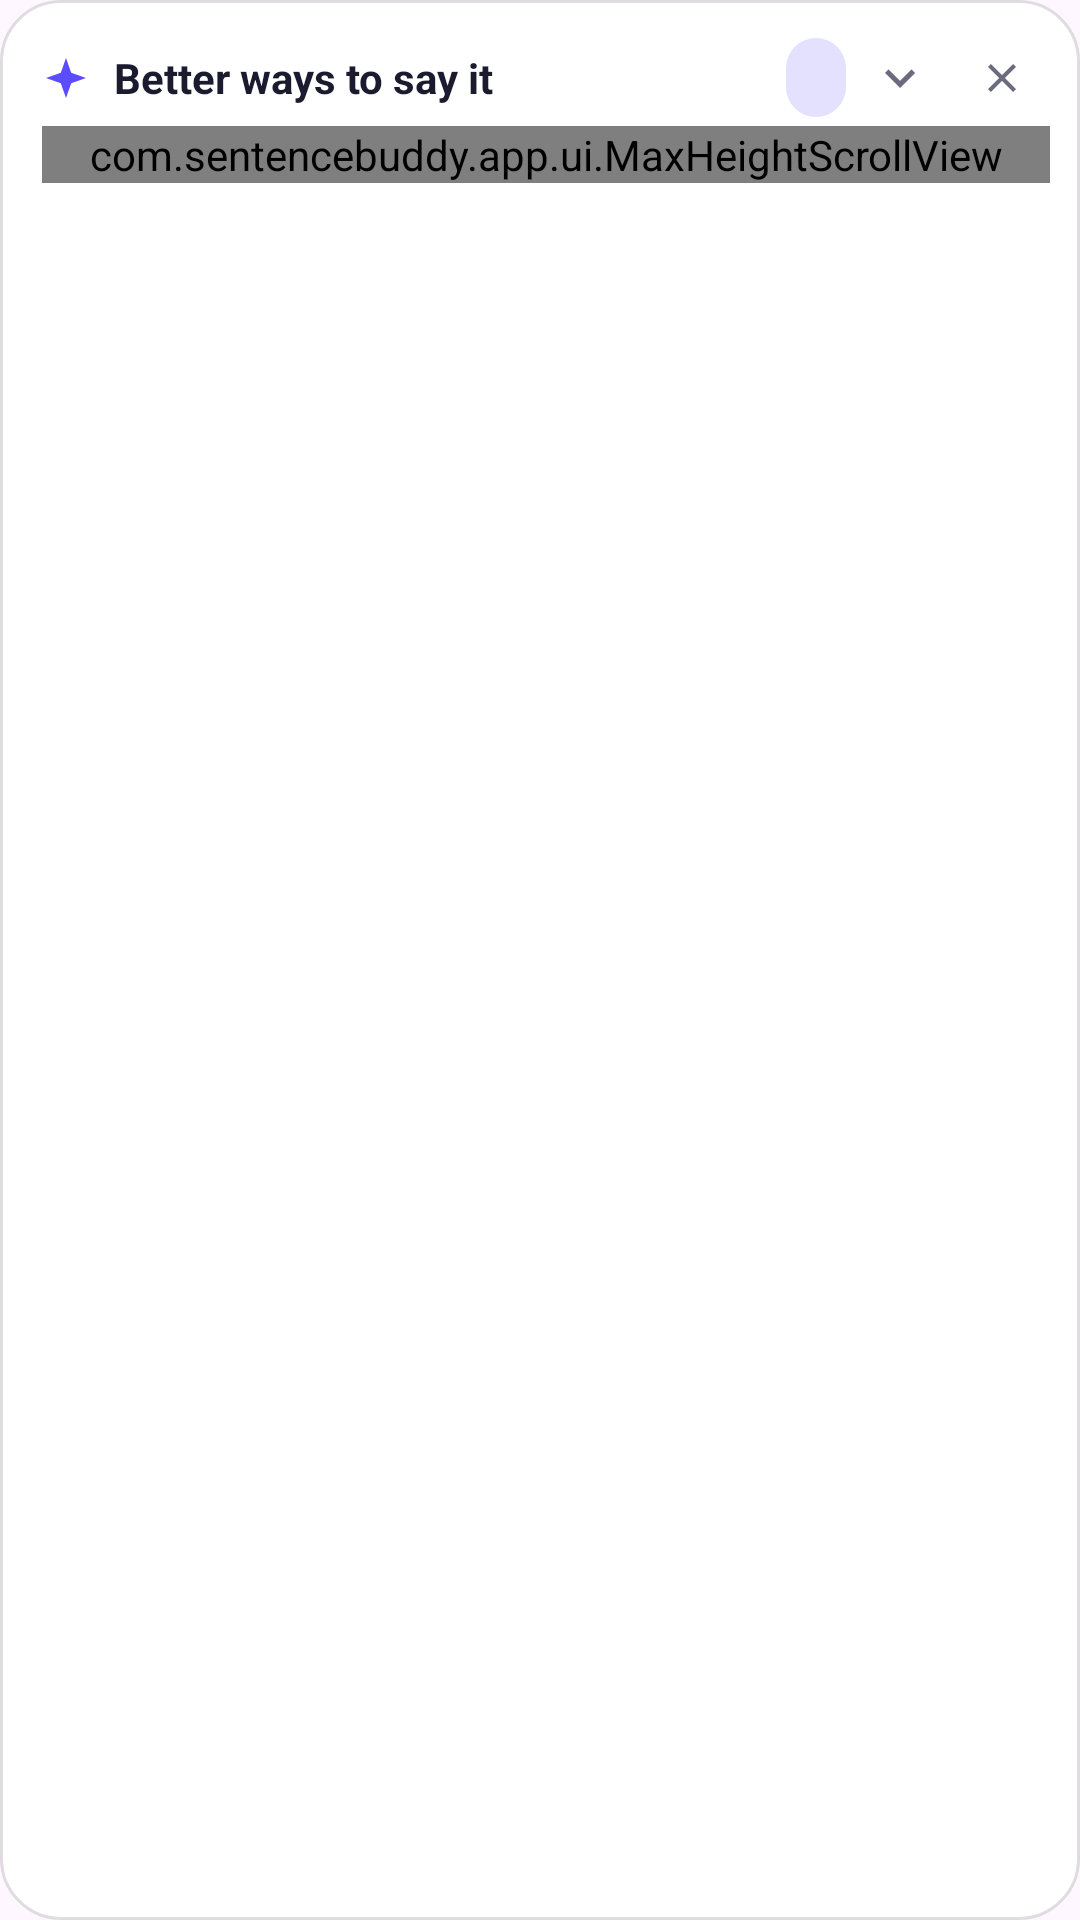

Point at icon controls on the screen. Image size 1080w x 1920h, points as [x,y].
Close: [1002,78]
Minimize to bubble (pause suggestions): [900,78]
sparkle brand: [66,78]
